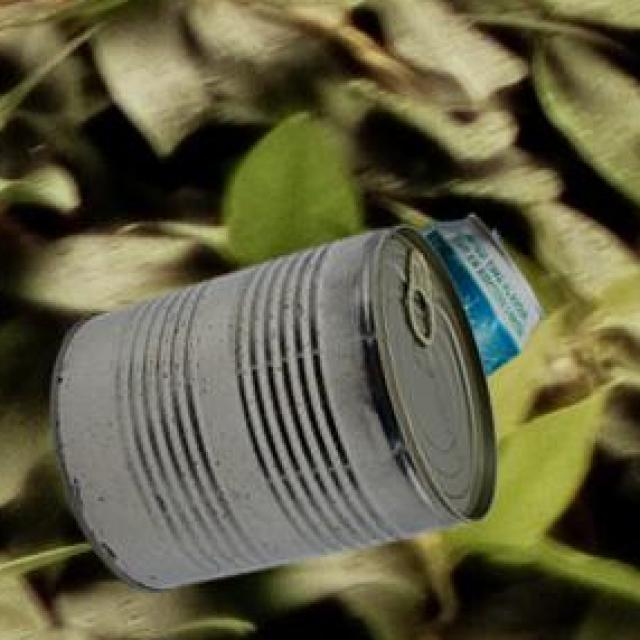logam: (48, 223, 493, 590), (417, 211, 540, 373)
